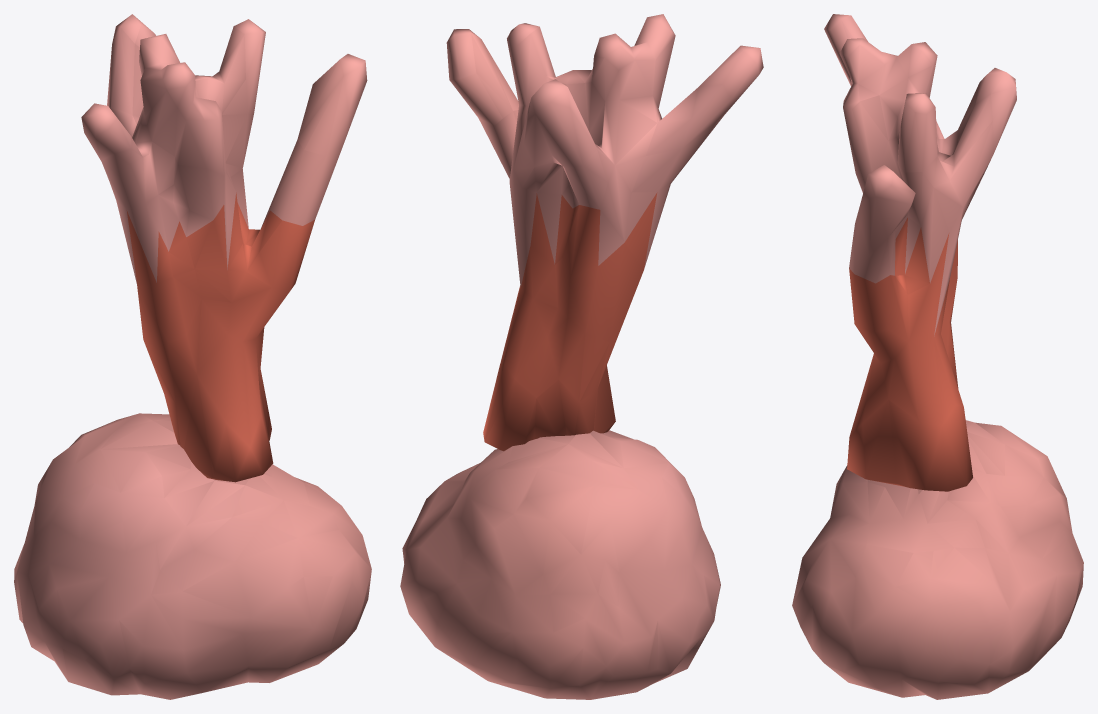
The model's file is shore_coral_pillar_lod2.glb.
3 views of the same model, side by side, from view 1: azimuth 30°, elevation 25°; view 2: azimuth 150°, elevation 25°; view 3: azimuth 270°, elevation 25° (orthographic). The views are drawn at different scales.
Visible parts, largest first — view 1: shore_coral_pillar.001; view 2: shore_coral_pillar.001; view 3: shore_coral_pillar.001.
Boxes of the visible parts, x1=… form: shore_coral_pillar.001: x1=14, y1=14, x2=371, y2=699; shore_coral_pillar.001: x1=400, y1=14, x2=763, y2=699; shore_coral_pillar.001: x1=792, y1=14, x2=1083, y2=699.
Bounding box in the file's own units: 3.11 × 6.12 × 2.77.
